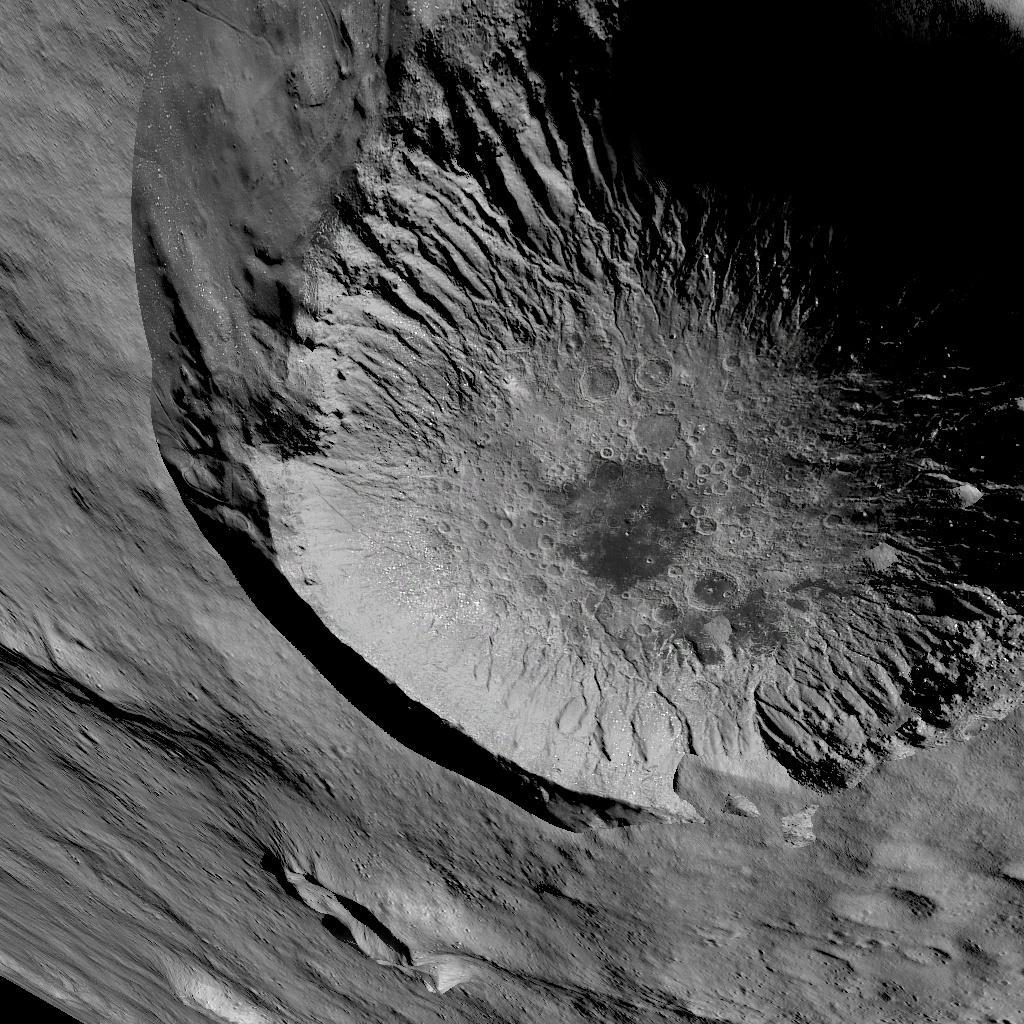Crater: (112, 2, 1023, 834), (224, 848, 418, 998)
Plan surface: (480, 883, 1024, 1024)
